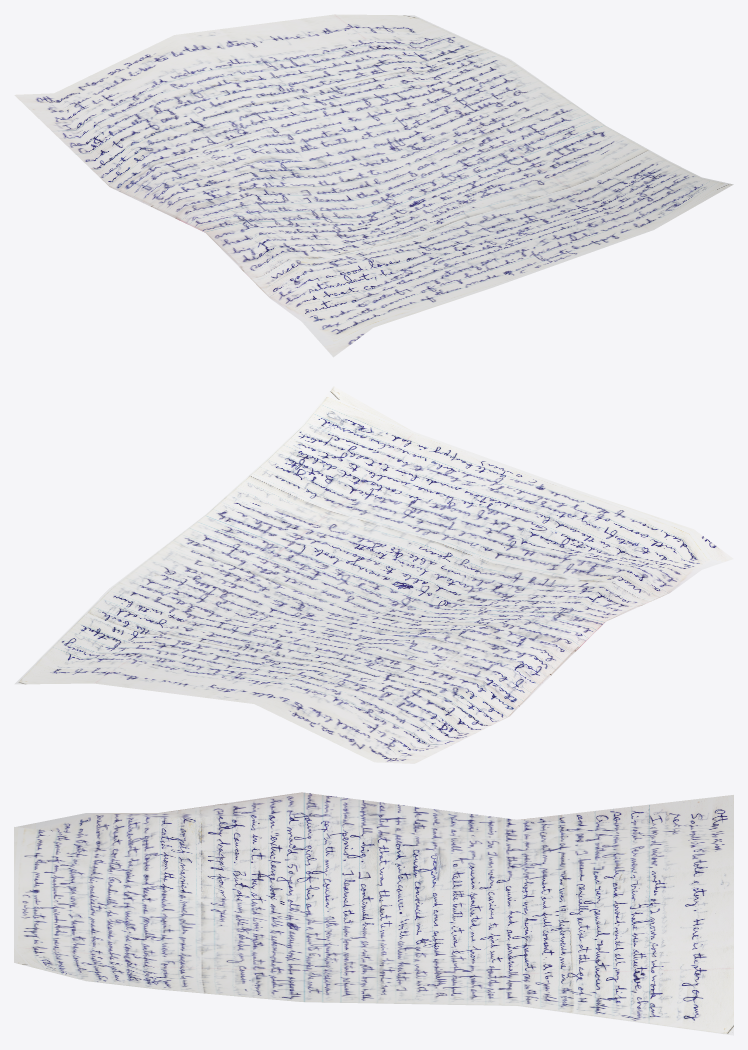
File: paper3.fbx
The picture shows the model from 3 angles, top to bottom: view 1: azimuth 30°, elevation 25°; view 2: azimuth 150°, elevation 25°; view 3: azimuth 270°, elevation 25°; orthographic projection. The views are drawn at different scales.
Parts seen in each view (by area): view 1: pPlane3; view 2: pPlane3; view 3: pPlane3.
Boxes of the visible parts, x1,y1,x2,y2 form: pPlane3: (14,14,733,357); pPlane3: (14,386,733,763); pPlane3: (14,792,733,1035).
Size of the model in its own units: 23.68 by 4.25 by 32.7.
1 material, 1 textured.
